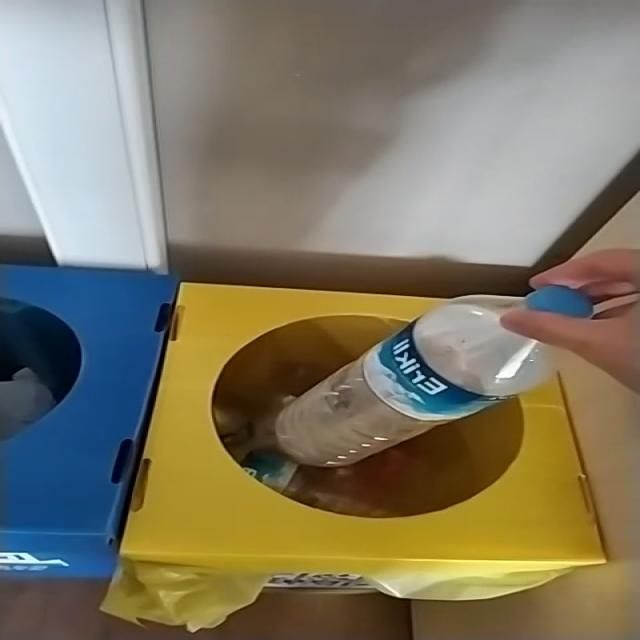plastic: (277, 285, 593, 466)
